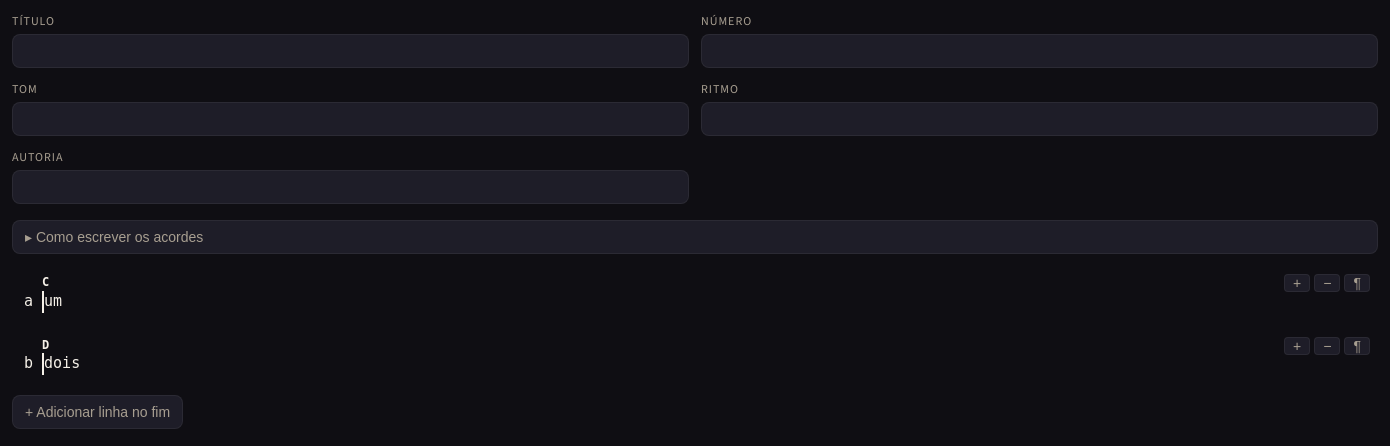
Scenario: o foco não cai no <body> a cada mutação estrutural › remover a última linha de uma estrofe leva o foco à linha vizinha
Click the button named "remover linha".
click(1327, 346)  # box [1314,336,1340,354]
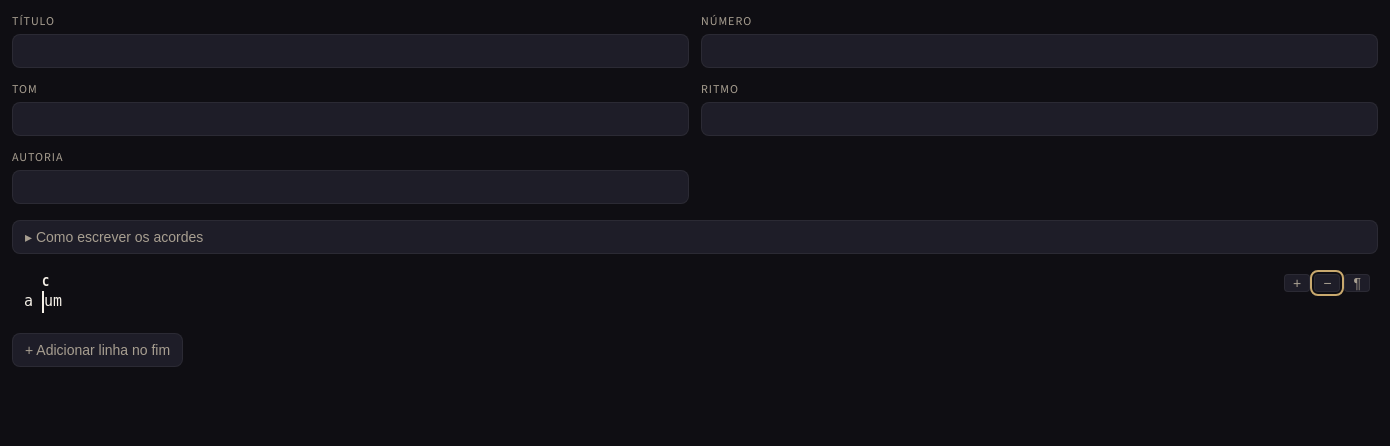
Now the number of buttons named "remover linha" is 1, box [1314,274,1340,292]
